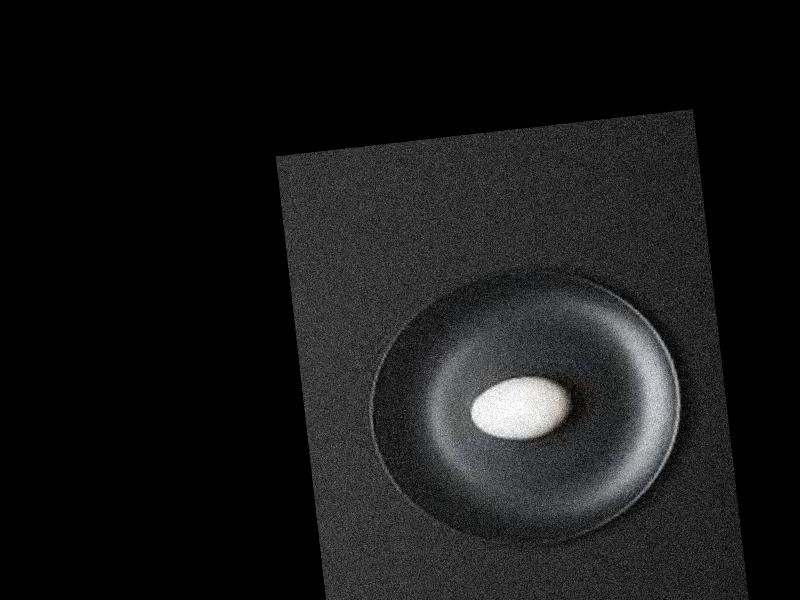Eggs: (468, 372, 573, 445)
